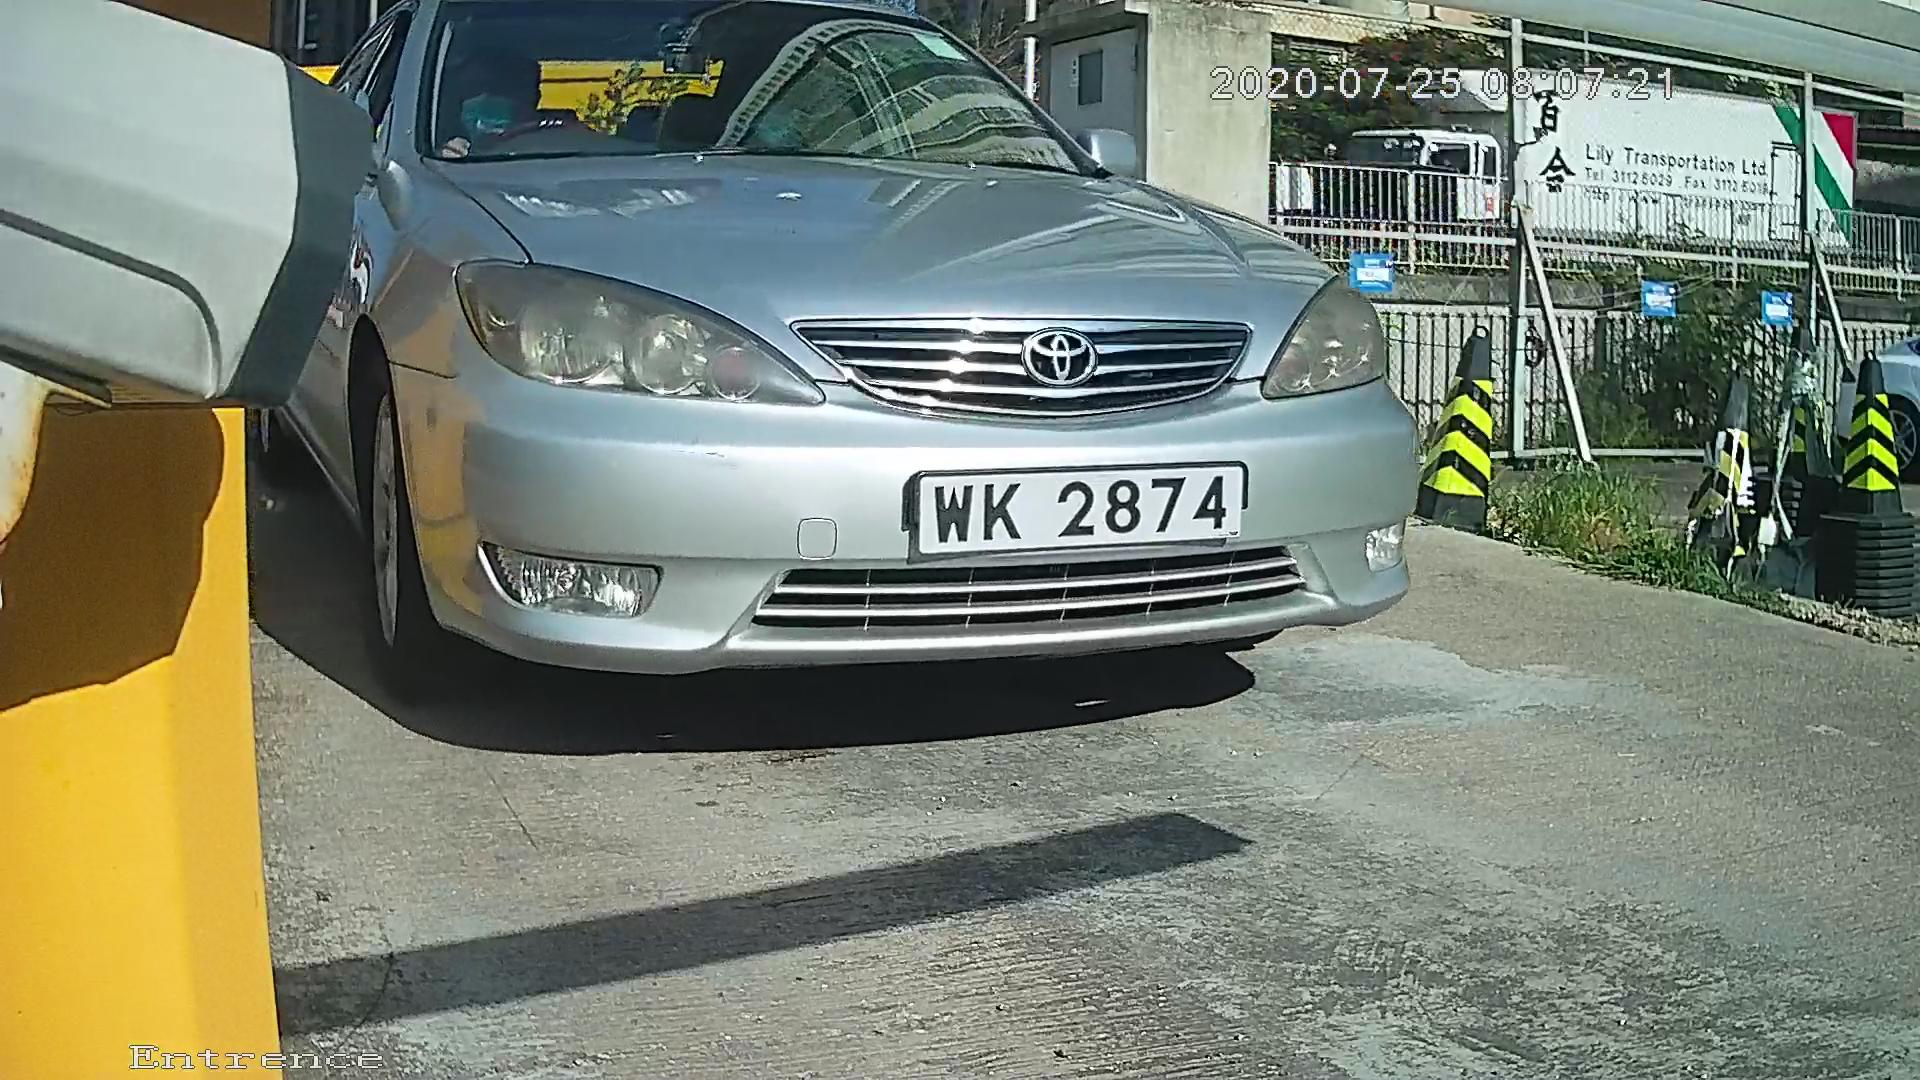License Plate: (841, 449, 1286, 569)
